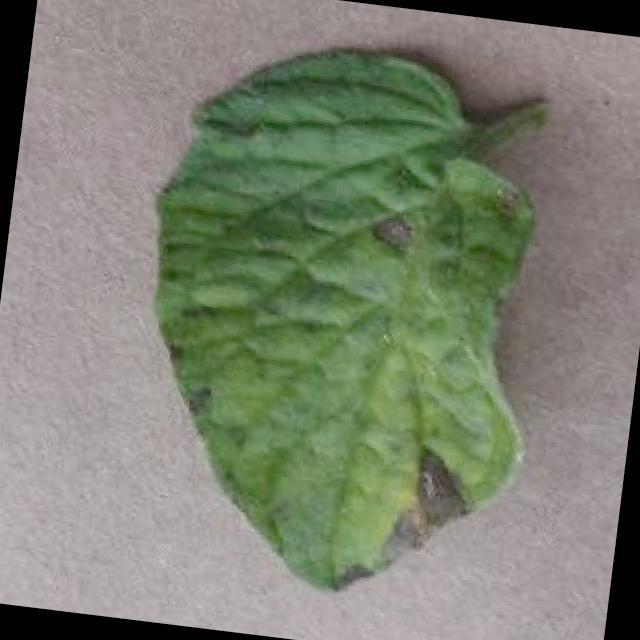Tomato Early blight leaf: (106, 15, 568, 622)
